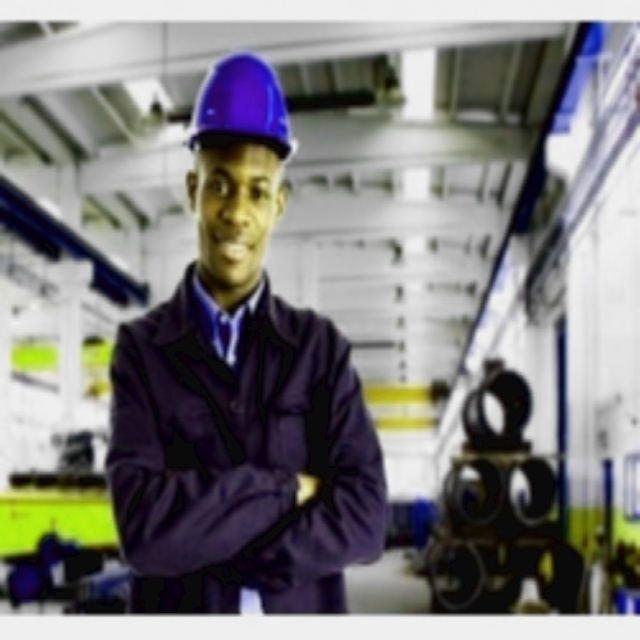Sin_Chaleco: (110, 264, 385, 603)
